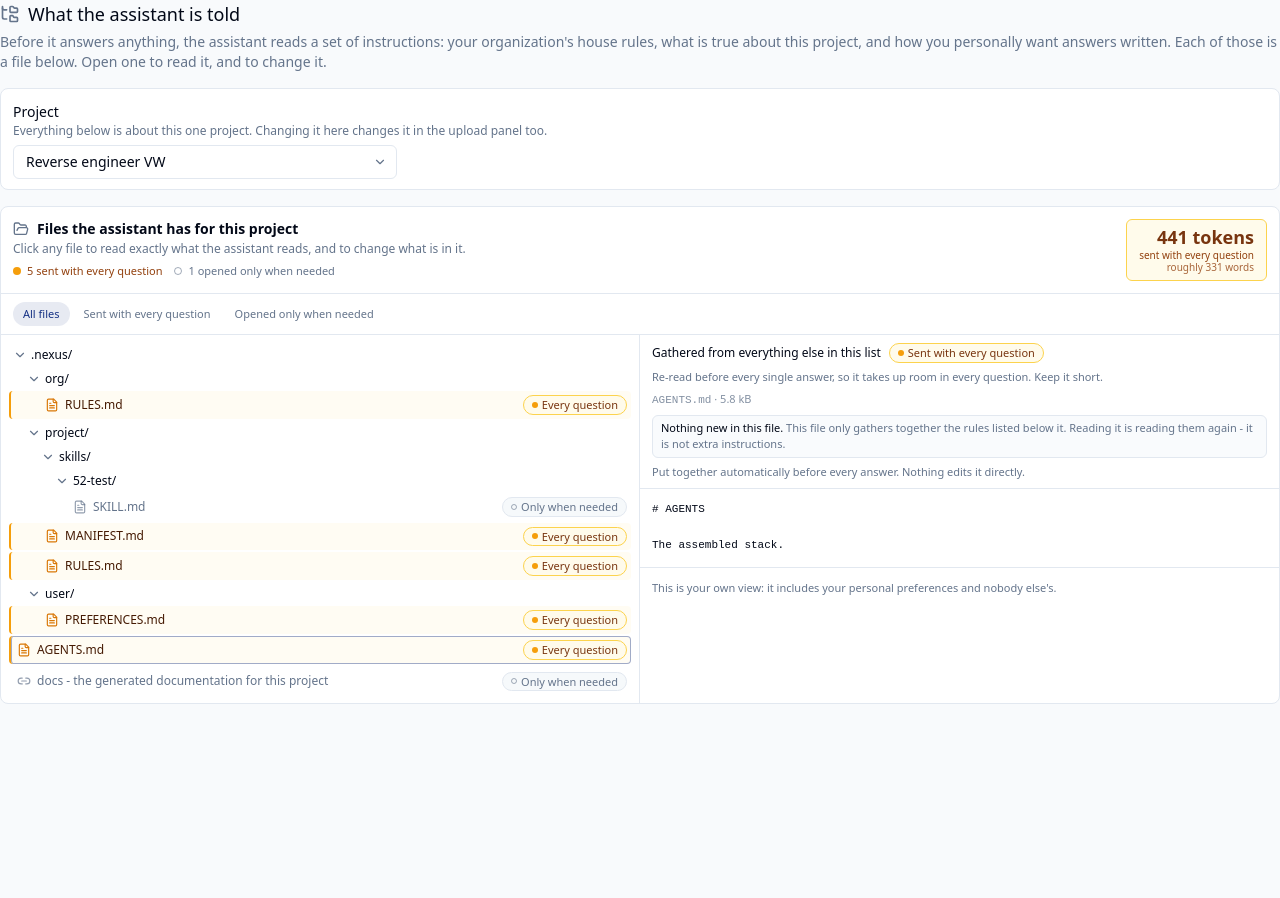
Test case: ProjectStructurePanel › puts the project editor in the pane that shows the project file
Click the 2nd button "RULES.md Every question": (94, 566) [9,552,631,580]
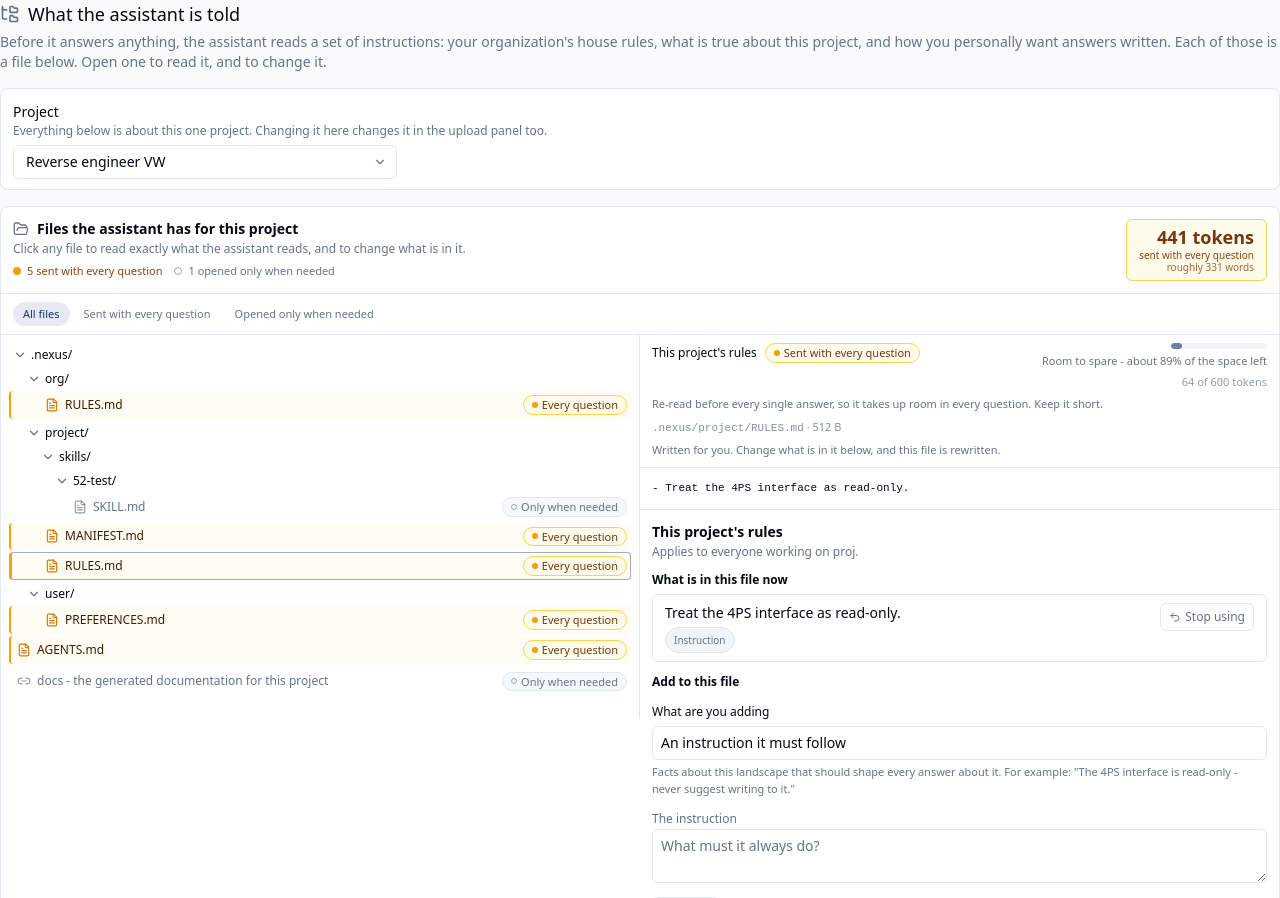
expect the heading "This project's rules" is shown: met, box [652,522,783,541]
expect the text "Applies to everyone working on proj." is shown: met, box [652,543,858,560]
expect the text "Treat the 4PS interface as read-only." is shown: met, box [665,603,901,622]
